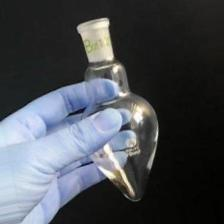Pear shaped flask: (60, 14, 164, 201)
